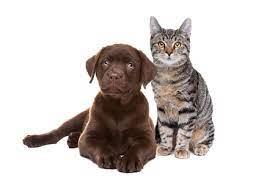cat: (142, 13, 230, 161)
dog: (65, 28, 155, 171)
